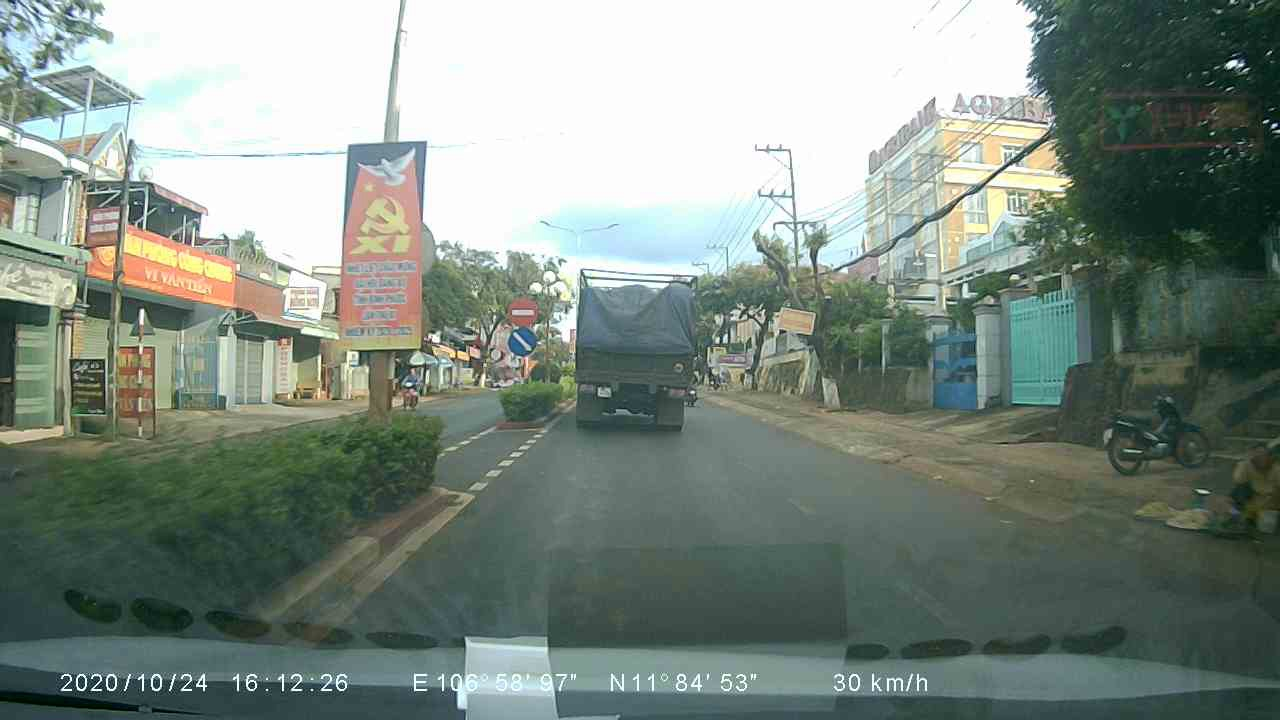Cam di nguoc chieu: (504, 294, 537, 326)
Huong di phai re phai: (504, 327, 540, 358)
